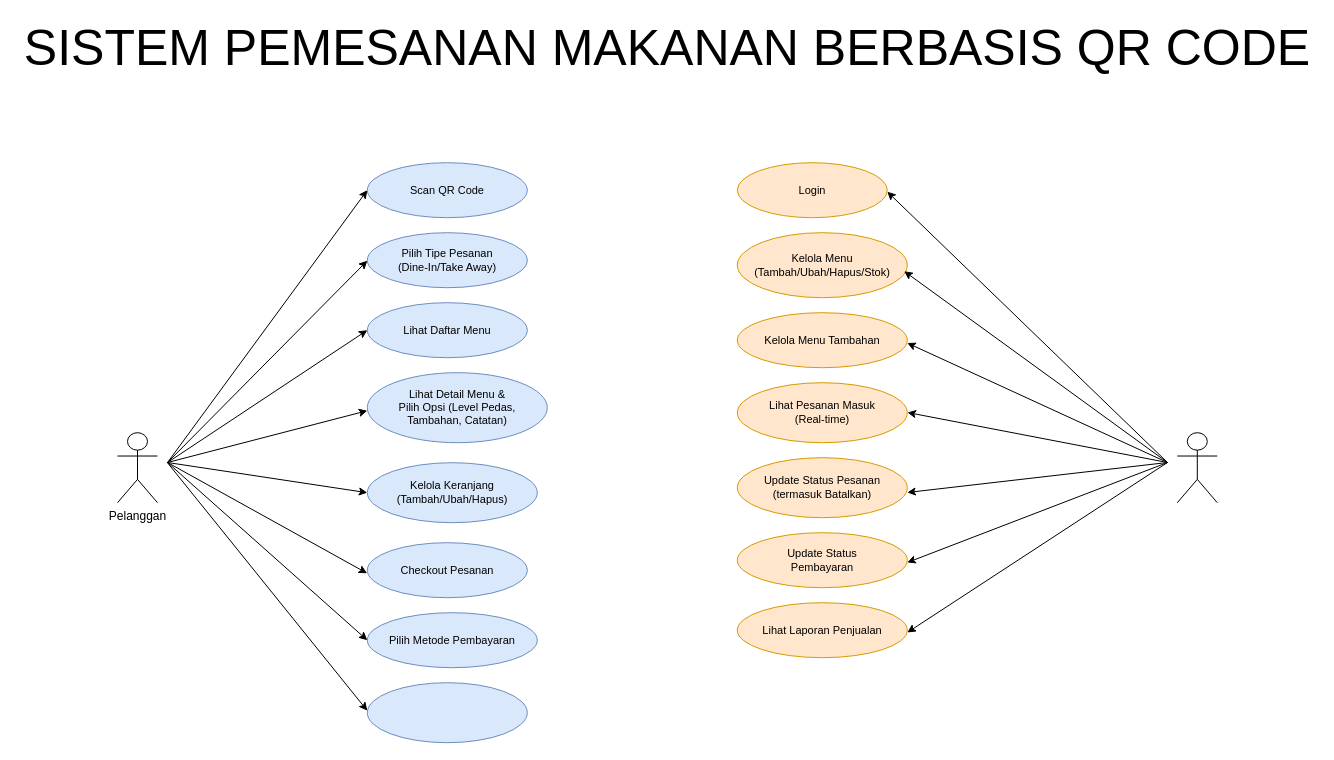
Some shapes in this 1334 by 760 pixel diagram are drawn without their labels. The centre of each missing label's shape, as x and y in pixels:
"Kasir" belongs at (x=1196, y=467).
"Lihat Status Pesanan / Struk" belongs at (x=446, y=712).
